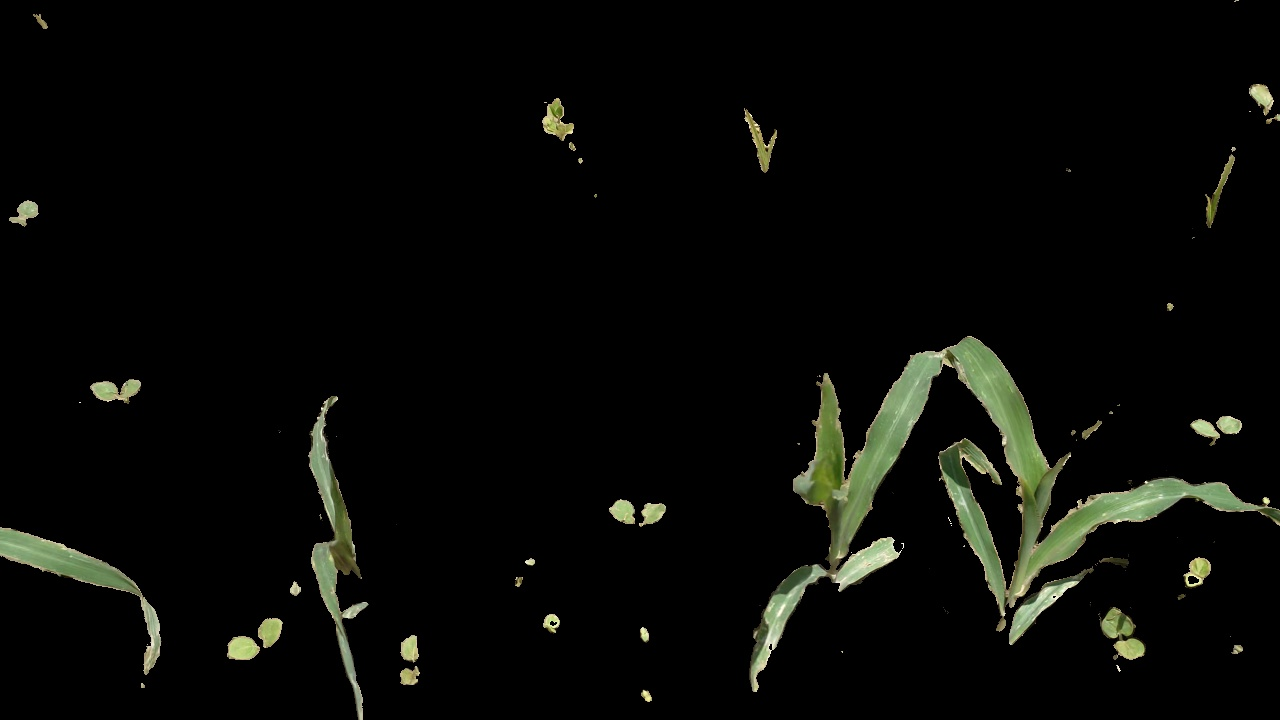crop: (959, 327, 1151, 632), (753, 358, 922, 687), (306, 388, 382, 711)
weed: (1196, 149, 1253, 236), (209, 604, 280, 662), (1096, 607, 1157, 671), (734, 104, 786, 177), (75, 361, 141, 410), (393, 627, 430, 710), (596, 490, 664, 526), (1188, 403, 1241, 445), (535, 95, 579, 142), (1250, 74, 1280, 136), (1179, 548, 1208, 600), (4, 192, 37, 230), (540, 613, 572, 633)
